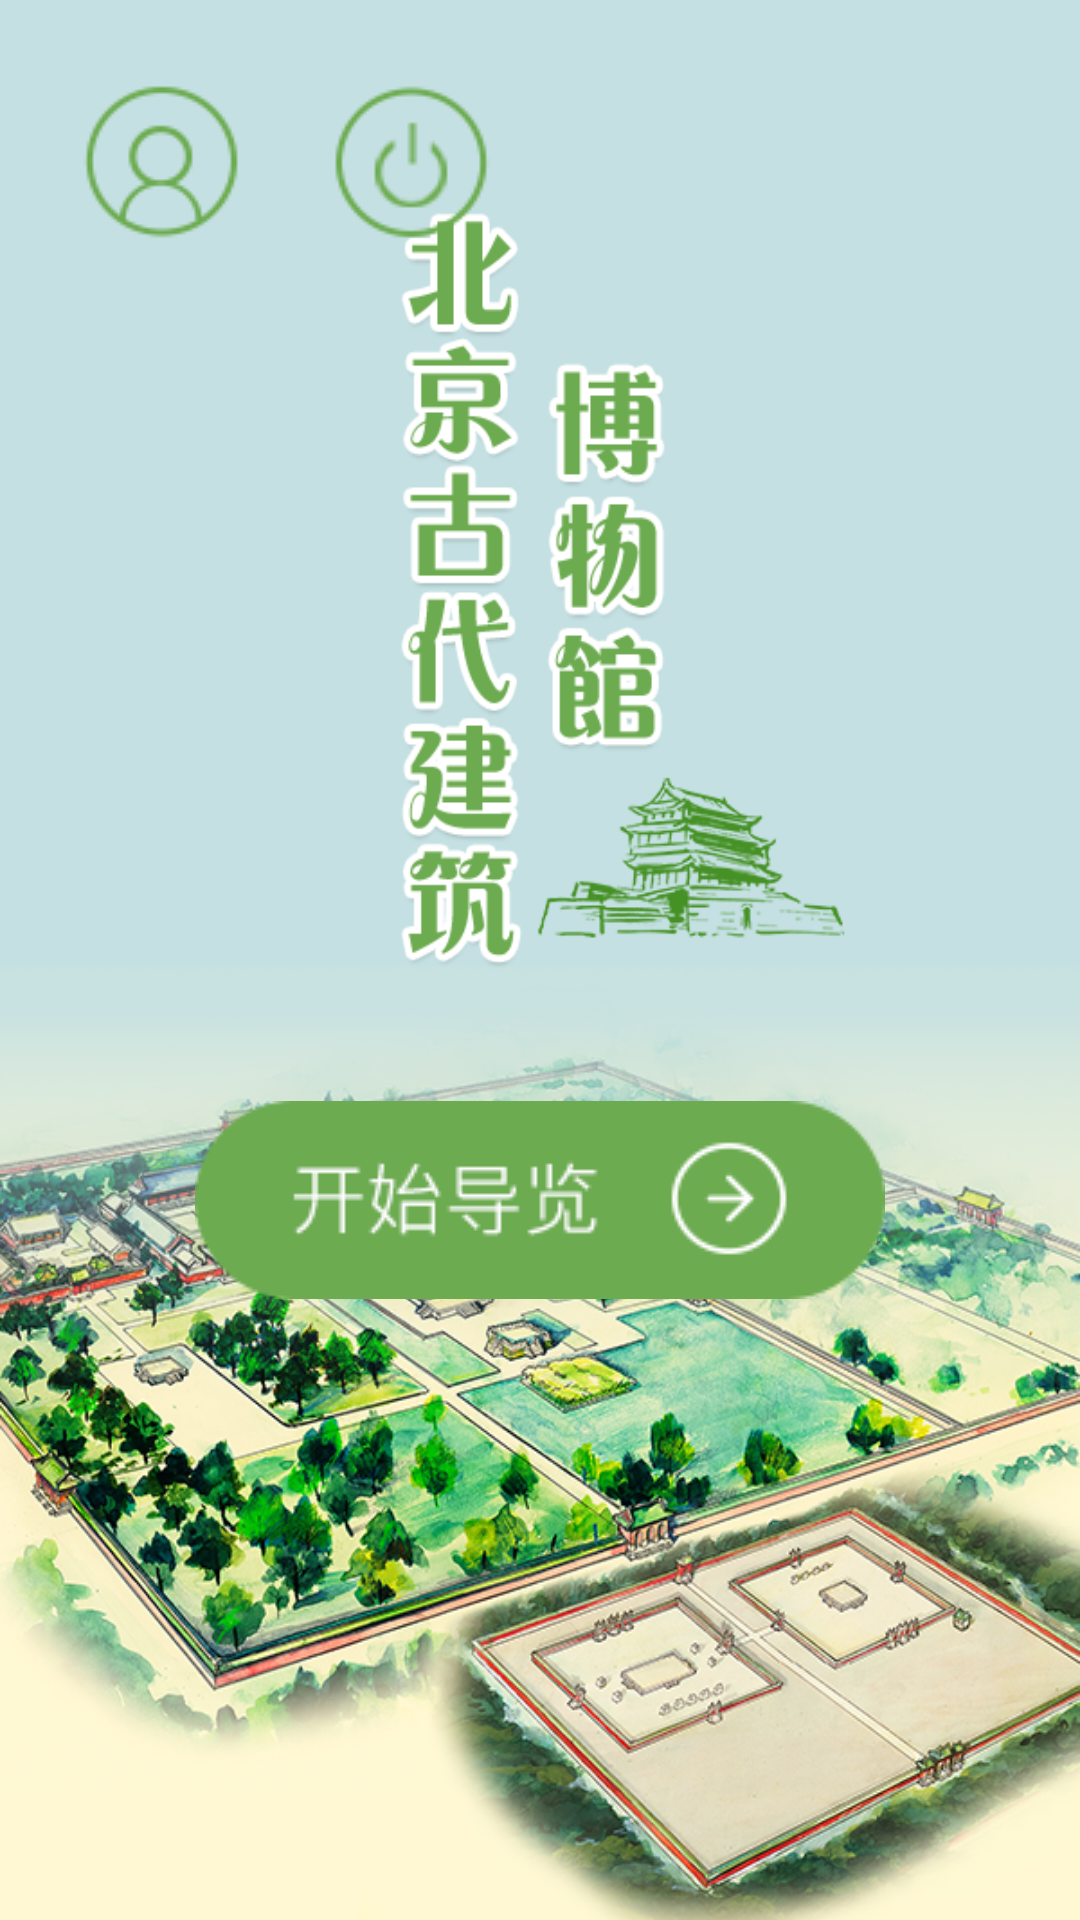

Screen size 1080px×1920px. Icon name, then its box in pixels as (x1, y1, x2, y2):
dao close: (335, 86, 504, 252)
dao contact: (86, 86, 238, 238)
